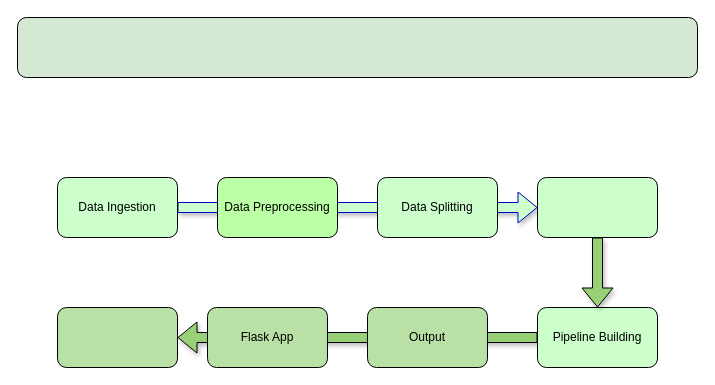
Image size: 715x385. Some labels were removed from this diagram. The shapes that lost their labels are listed below. From the top down, each one's centre as x and y in pixels, then its label:
[357,47]: Project Structure
[597,207]: Model Trainer
[117,337]: UI
